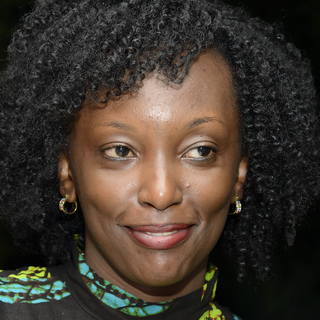eye: (95, 139, 142, 165), (177, 139, 223, 165)
